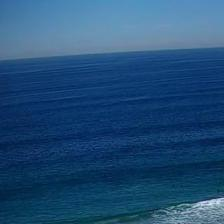surfer: (218, 181, 222, 184), (217, 189, 220, 192), (172, 184, 174, 188)
